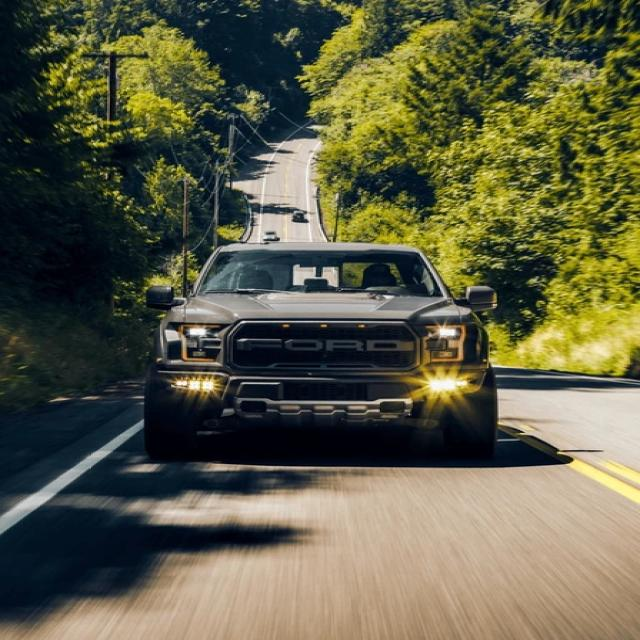ford: (232, 333, 417, 358)
